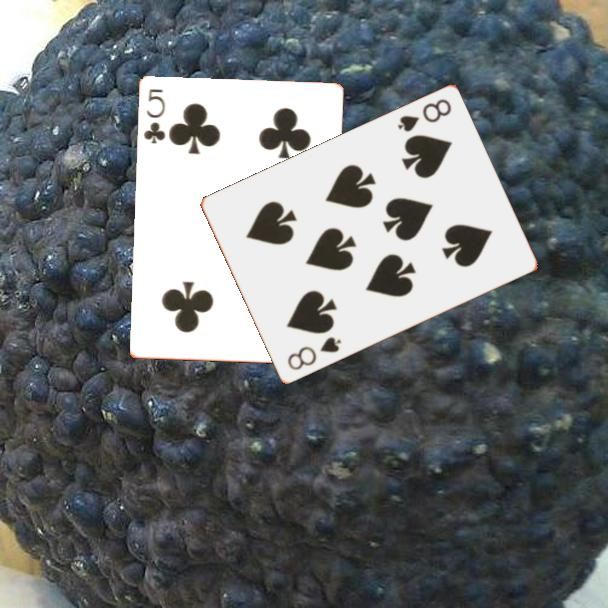c05: (141, 85, 168, 147)
s08: (284, 334, 344, 374), (394, 96, 454, 135)
